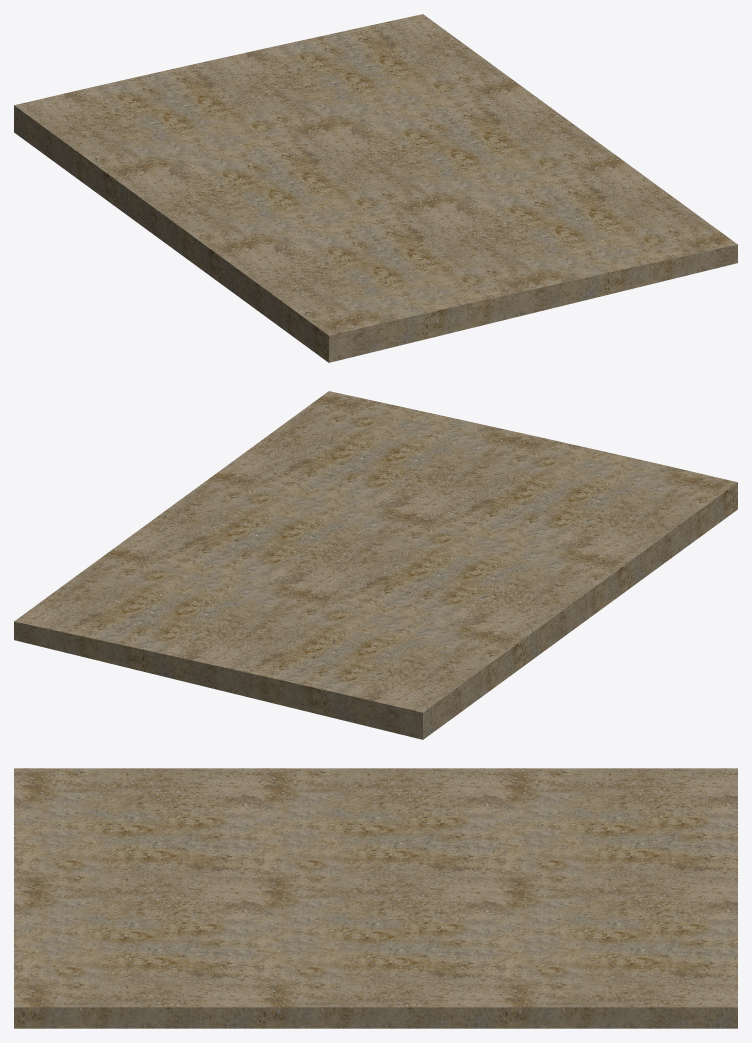
The model's file is shoulder_render.glb.
3 views of the same model, one above another, from view 1: azimuth 30°, elevation 25°; view 2: azimuth 150°, elevation 25°; view 3: azimuth 270°, elevation 25° (orthographic). The views are drawn at different scales.
Parts seen in each view (by area): view 1: shoulder_SOIL_RENDER; view 2: shoulder_SOIL_RENDER; view 3: shoulder_SOIL_RENDER.
Part boxes in pixels (x1=…): shoulder_SOIL_RENDER: x1=14, y1=14, x2=737, y2=362; shoulder_SOIL_RENDER: x1=14, y1=391, x2=737, y2=739; shoulder_SOIL_RENDER: x1=14, y1=768, x2=737, y2=1028.
Size of the model in its own units: 6 by 0.38 by 8.
1 material, 1 textured.
